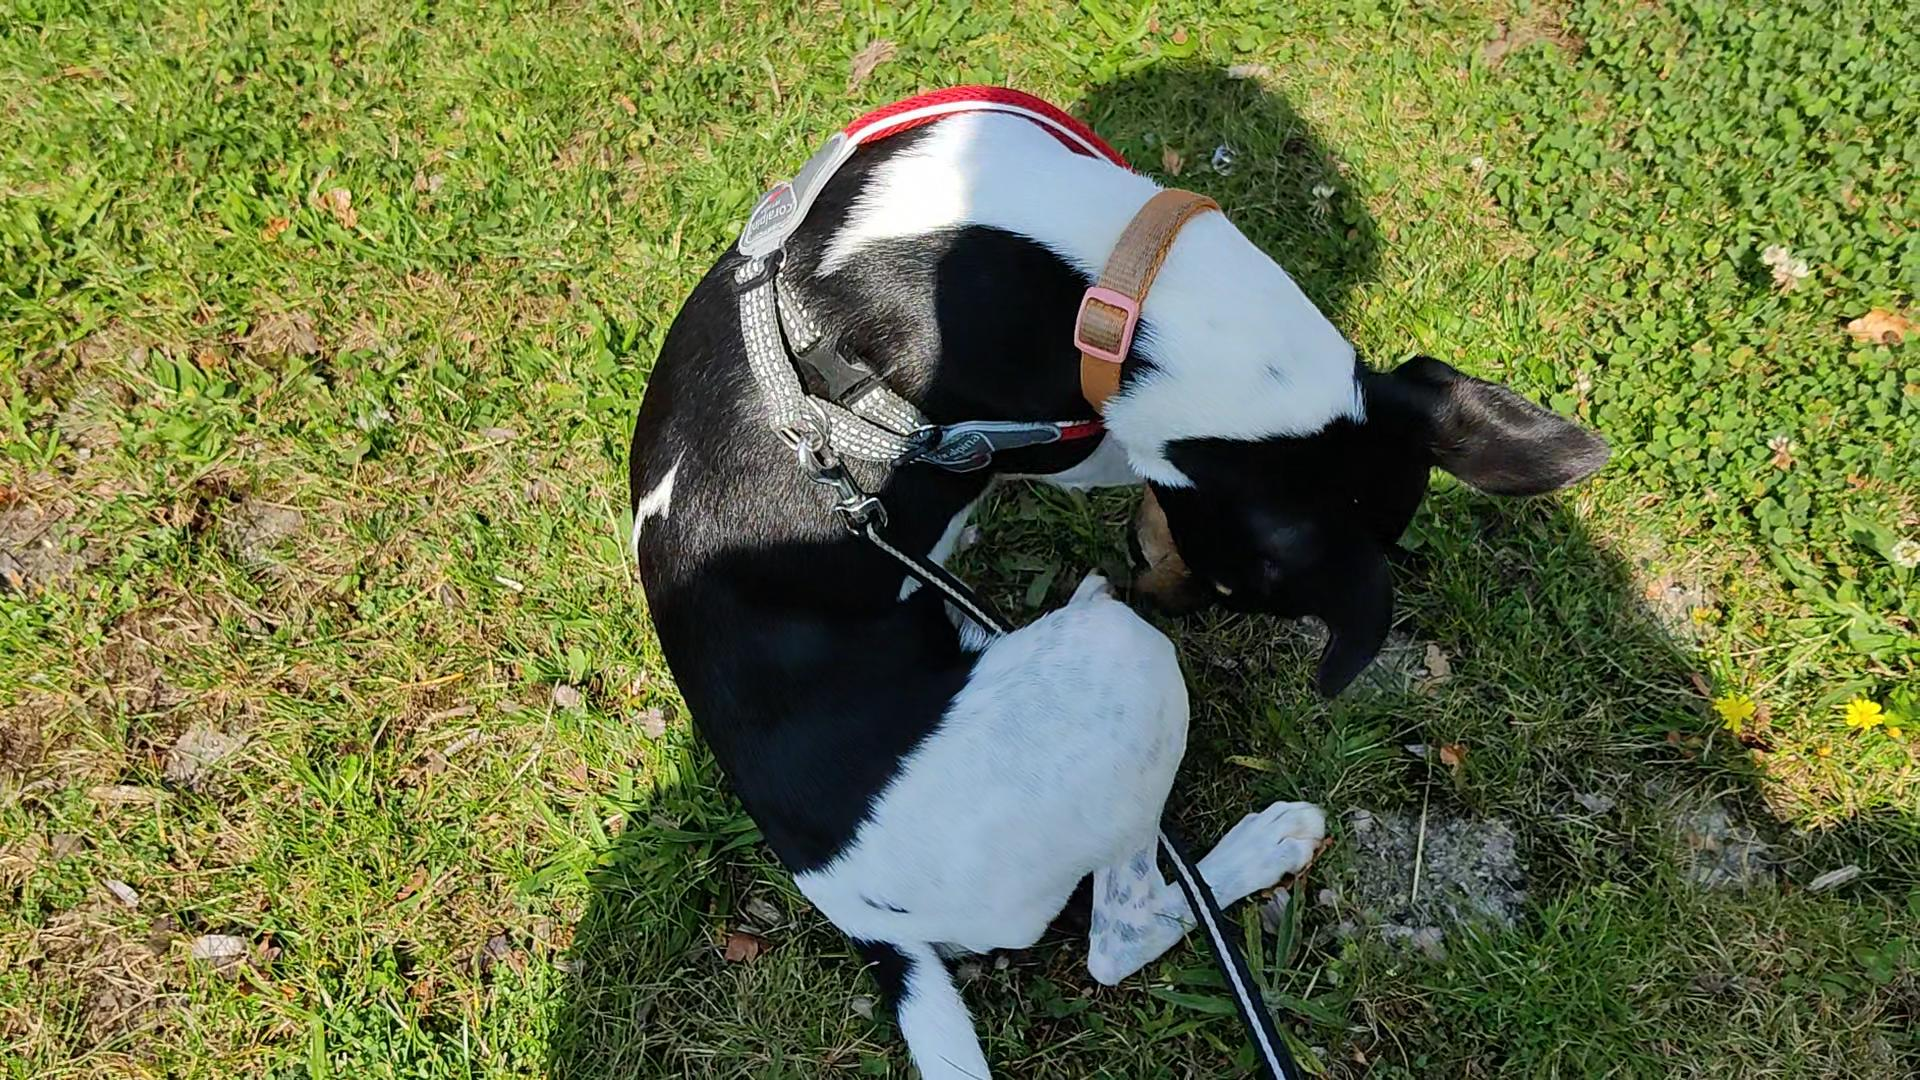Dog: (620, 80, 1615, 1079)
